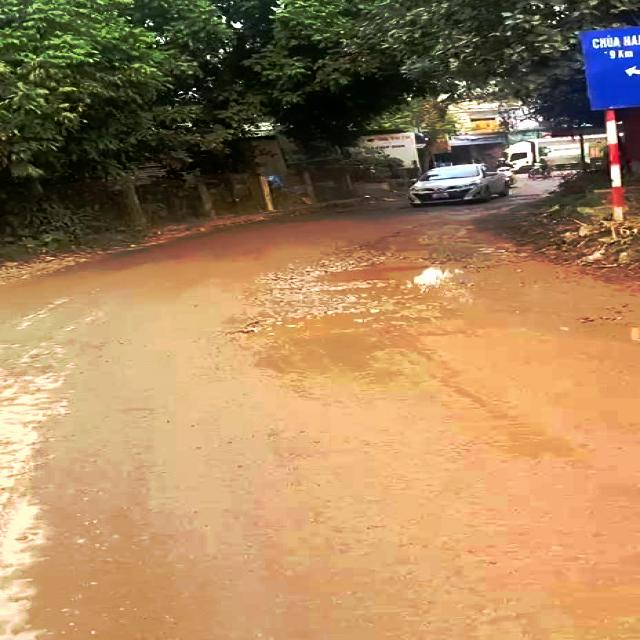pothole: (228, 307, 424, 343), (286, 257, 452, 298)
